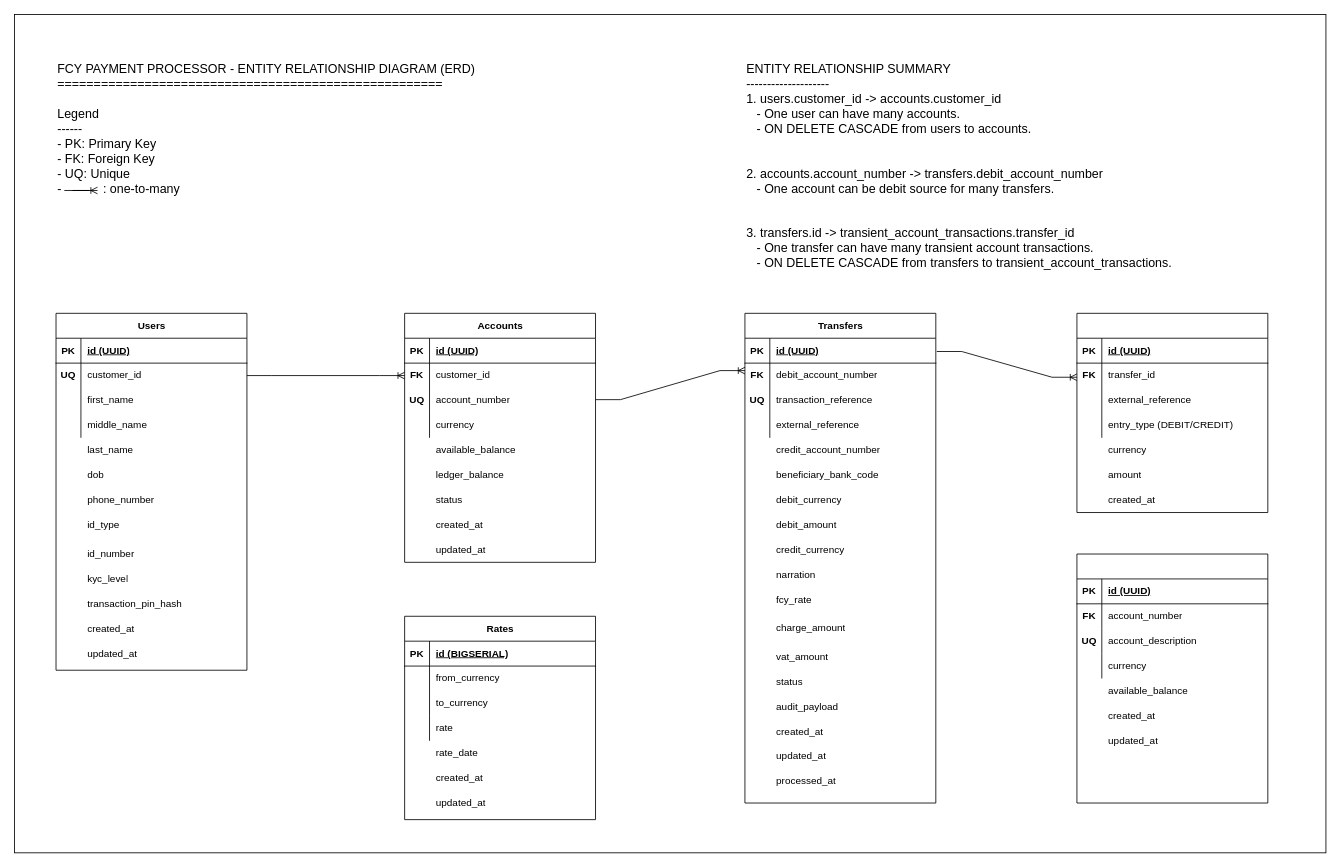
Image size: 1340x867. Some labels were removed from this diagram. Here are the shapes that lost their labels. From the top down, the box of each, then its label:
(1076, 312, 1268, 513): Transient_account_transactions
(1076, 553, 1268, 803): Transient_accounts
